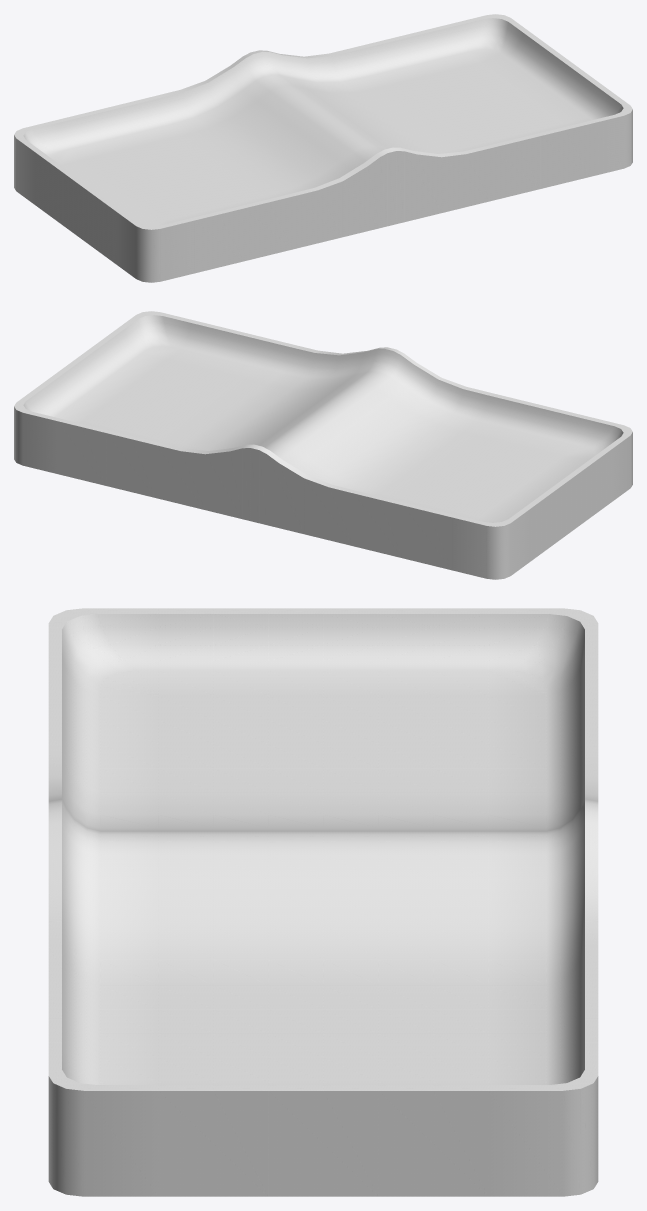
File: DryPool.fbx
3 renders of one model, top to bottom at view 1: azimuth 30°, elevation 25°; view 2: azimuth 150°, elevation 25°; view 3: azimuth 270°, elevation 25°, orthographic. The views are drawn at different scales.
Visible parts, largest first — view 1: DryPool; view 2: DryPool; view 3: DryPool.
Part boxes in pixels (x1,y1,x2,y2): DryPool: (14, 14, 632, 282); DryPool: (14, 311, 632, 579); DryPool: (48, 608, 598, 1196).
Bounding box in the file's own units: 253 × 122 × 36.27.
